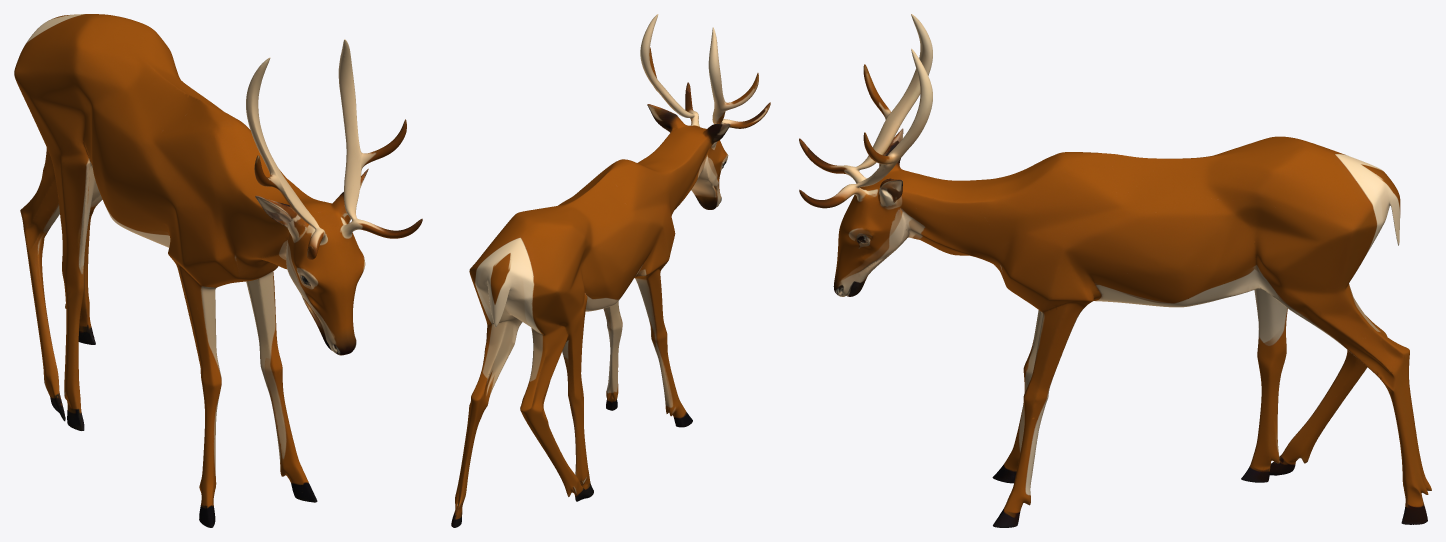
File: graze.glb
3 views of the same model, side by side, from view 1: azimuth 30°, elevation 25°; view 2: azimuth 150°, elevation 25°; view 3: azimuth 270°, elevation 25° (orthographic). The views are drawn at different scales.
Size of the model in its own units: 0.4951 by 1.56 by 1.9.
1 material, 1 textured.
